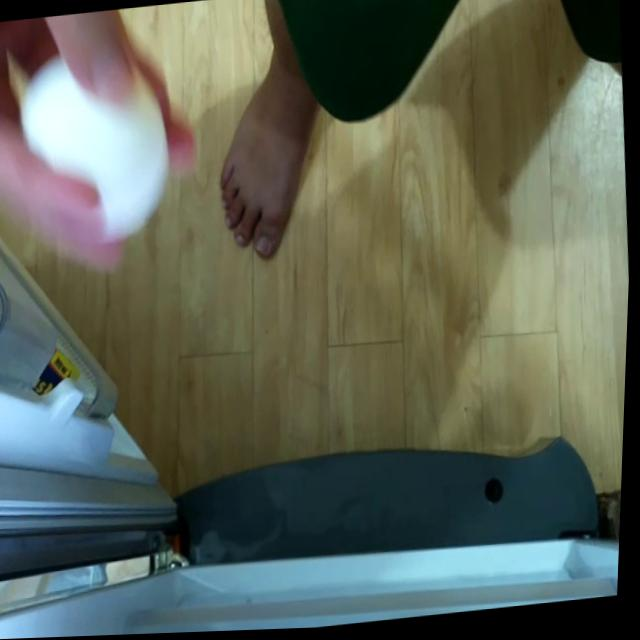egg: (0, 46, 179, 263)
